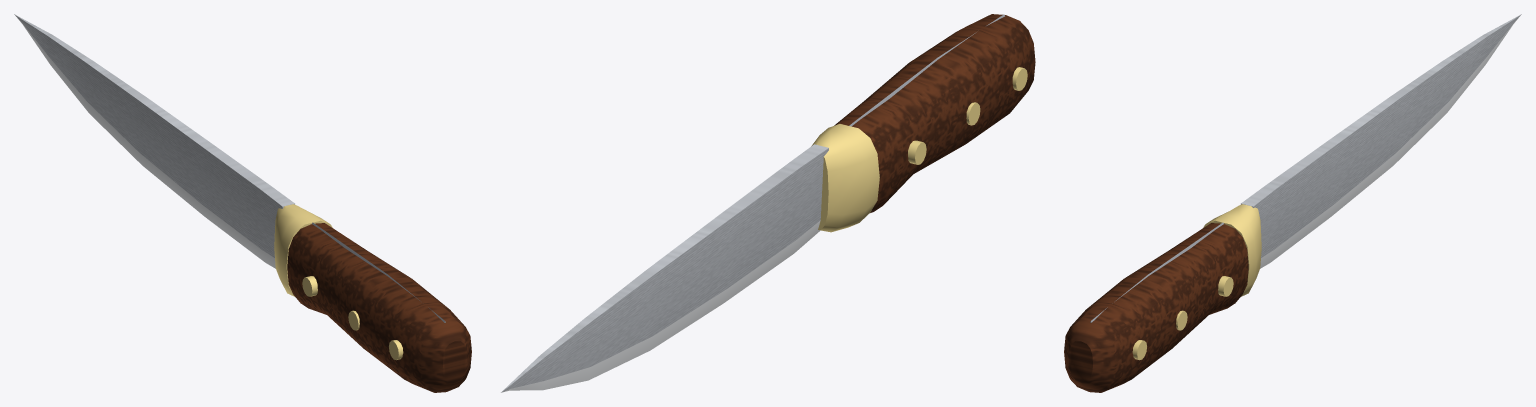
The model's file is fruit_knife.glb.
3 renders of one model, left to right at view 1: azimuth 30°, elevation 25°; view 2: azimuth 150°, elevation 25°; view 3: azimuth 330°, elevation 25°, orthographic. The views are drawn at different scales.
Visible parts, largest first — view 1: FruitKnifeMesh; view 2: FruitKnifeMesh; view 3: FruitKnifeMesh.
Boxes of the visible parts, x1,y1,x2,y2 form: FruitKnifeMesh: [14, 14, 471, 392]; FruitKnifeMesh: [501, 14, 1035, 392]; FruitKnifeMesh: [1064, 14, 1521, 392].
Size of the model in its own units: 0.0275 by 0.0325 by 0.316.
5 materials, 2 textured.
